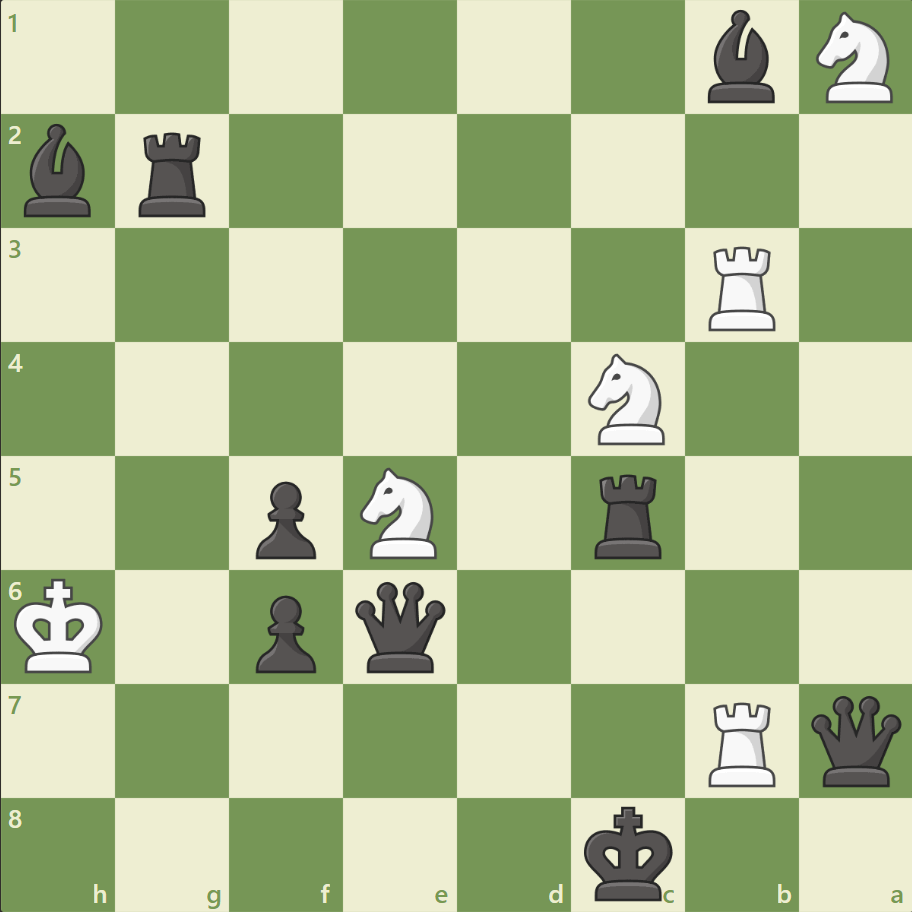K: (11, 571, 111, 679)
N: (351, 461, 449, 564), (806, 7, 903, 110), (579, 348, 676, 450)
R: (700, 693, 783, 790), (700, 239, 783, 336)
b: (698, 6, 782, 109), (17, 120, 101, 222)
k: (579, 798, 679, 906)
p: (247, 586, 322, 677), (247, 473, 322, 564)
q: (351, 576, 450, 676), (805, 690, 904, 789)
r: (587, 466, 670, 563), (133, 125, 215, 222)
